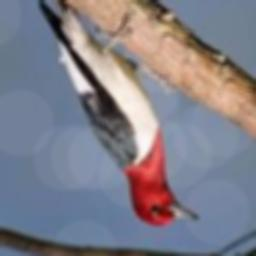Woodpecker: (37, 0, 198, 227)
